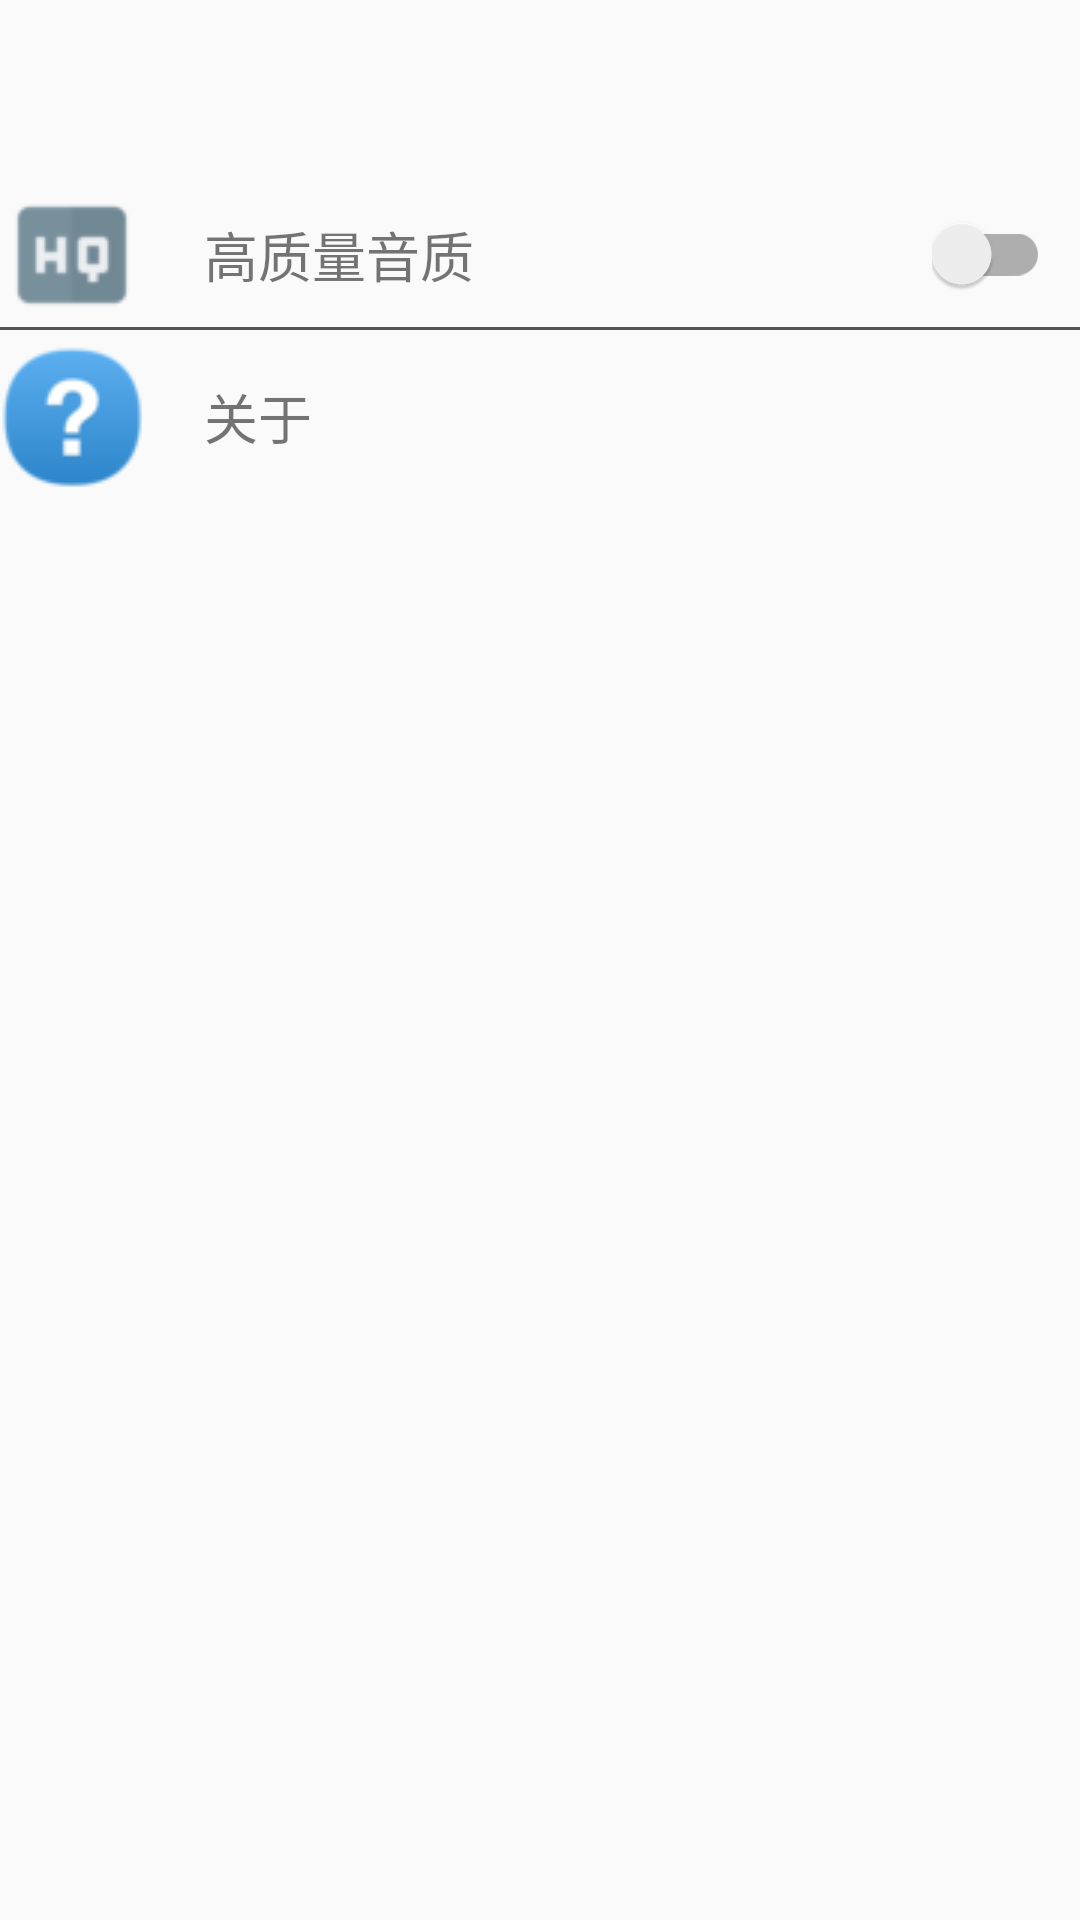

Screen size 1080px×1920px. Icon name, then its box in pixels as (x1, y1, x2, y2):
about: (3, 348, 142, 487)
